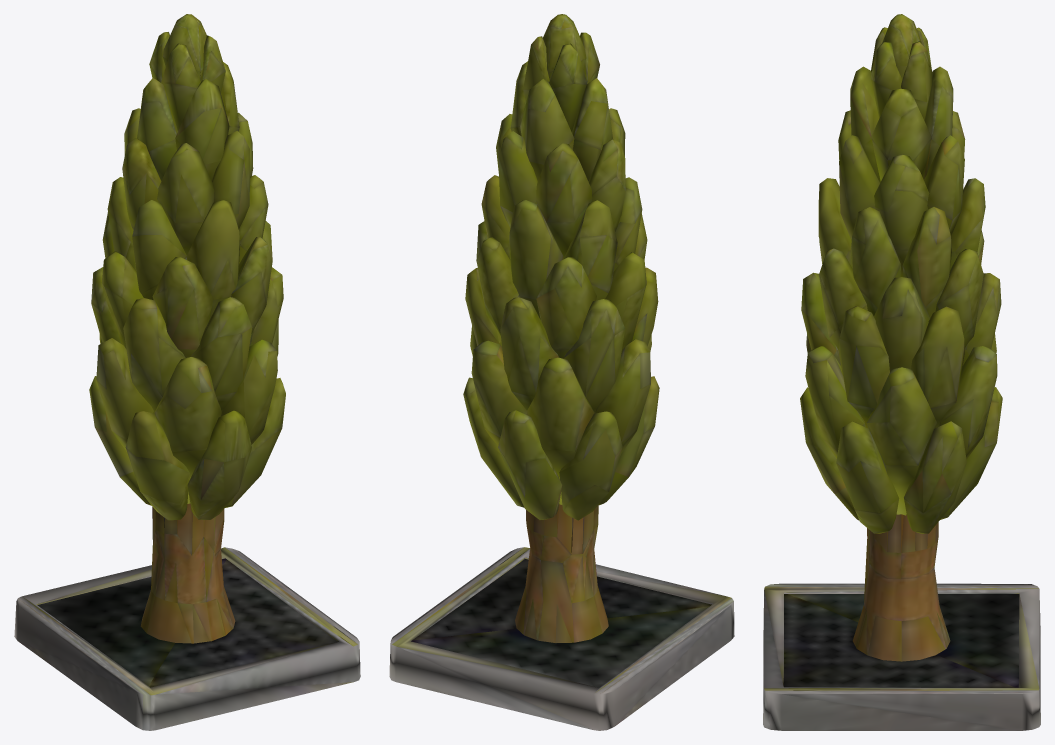
Rendered from poplar.glb.
3 views of the same model, side by side, from view 1: azimuth 30°, elevation 25°; view 2: azimuth 150°, elevation 25°; view 3: azimuth 270°, elevation 25° (orthographic). The views are drawn at different scales.
Visible parts, largest first — view 1: geometry_0; view 2: geometry_0; view 3: geometry_0.
Part boxes in pixels (x1,y1,x2,y2): geometry_0: (14,14,360,730); geometry_0: (389,14,734,730); geometry_0: (763,14,1040,730).
Size of the model in its own units: 0.3634 by 1 by 0.3817.
Materials: 1 (1 with a texture image).
